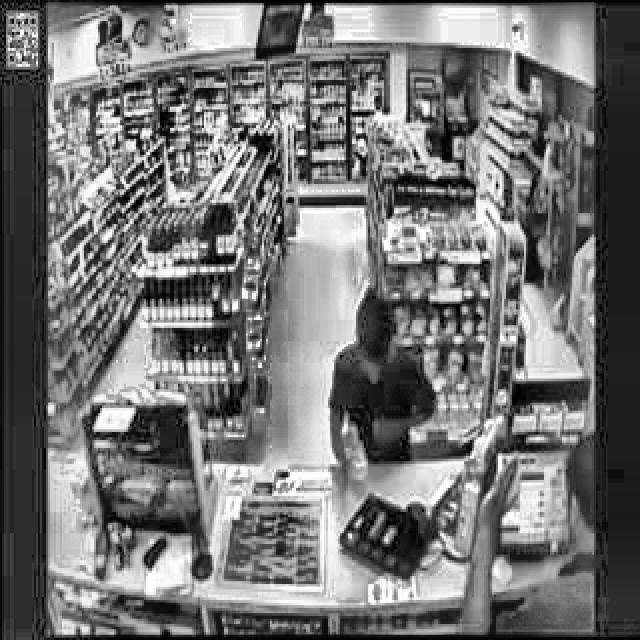robbery: (456, 430, 594, 632), (328, 290, 444, 520)
